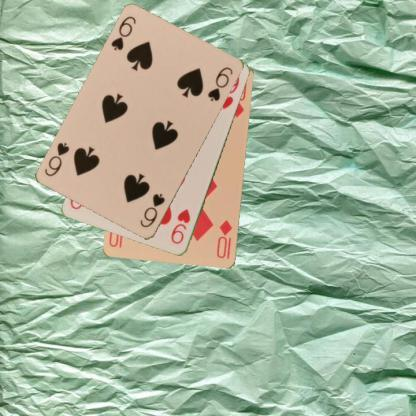10d: (214, 217, 234, 260)
6s: (108, 14, 138, 52), (138, 192, 166, 230)
9h: (168, 206, 192, 246)
